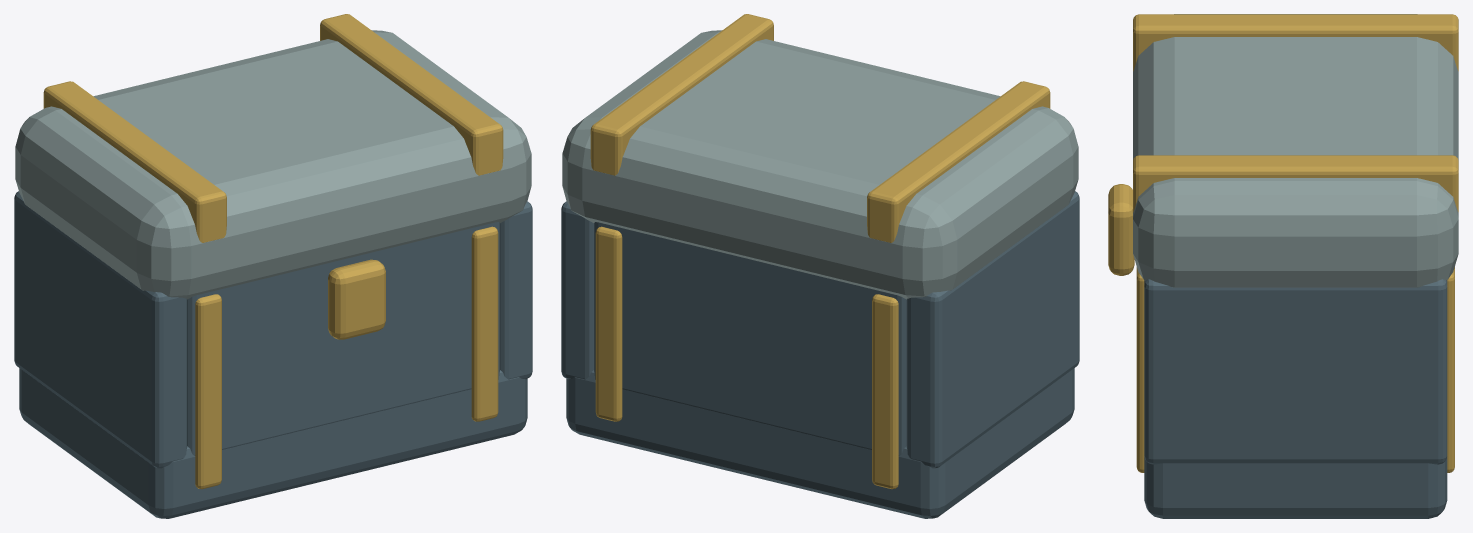
The model's file is chest.glb.
3 renders of one model, left to right at view 1: azimuth 30°, elevation 25°; view 2: azimuth 150°, elevation 25°; view 3: azimuth 270°, elevation 25°, orthographic. The views are drawn at different scales.
Visible parts, largest first — view 1: Chest_Lid, Chest_Front, Chest_Wall, Chest_Body, Lid_Band.001, Lid_Band, Chest_Wall.001, Chest_Band.001, Chest_Band, Chest_Lock; view 2: Chest_Lid, Chest_Front.001, Chest_Wall, Chest_Body, Lid_Band.001, Lid_Band, Chest_Wall.001, Chest_Band.001, Chest_Band; view 3: Chest_Lid, Chest_Wall.001, Chest_Body, Lid_Band, Lid_Band.001, Chest_Band.001, Chest_Lock.
Part boxes in pixels (x1,y1,x2,y2): Chest_Lid: [15, 30, 531, 299]; Chest_Front: [187, 222, 499, 455]; Chest_Wall: [14, 191, 187, 468]; Chest_Body: [19, 368, 527, 518]; Lid_Band.001: [320, 14, 503, 175]; Lid_Band: [43, 81, 226, 242]; Chest_Wall.001: [500, 201, 532, 379]; Chest_Band.001: [471, 226, 498, 421]; Chest_Band: [195, 294, 221, 489]; Chest_Lock: [328, 259, 385, 339]; Chest_Lid: [562, 30, 1078, 299]; Chest_Front.001: [594, 222, 906, 455]; Chest_Wall: [906, 191, 1079, 468]; Chest_Body: [566, 368, 1074, 518]; Lid_Band.001: [590, 14, 773, 175]; Lid_Band: [867, 81, 1050, 242]; Chest_Wall.001: [561, 201, 593, 379]; Chest_Band.001: [595, 226, 622, 421]; Chest_Band: [872, 294, 898, 489]; Chest_Lid: [1133, 14, 1458, 287]; Chest_Wall.001: [1144, 279, 1447, 464]; Chest_Body: [1144, 456, 1447, 518]; Lid_Band: [1133, 14, 1458, 71]; Lid_Band.001: [1133, 155, 1458, 212]; Chest_Band.001: [1136, 269, 1454, 472]; Chest_Lock: [1108, 184, 1134, 275].
Bounding box in the file's own units: 0.62 × 0.4925 × 0.4625.
